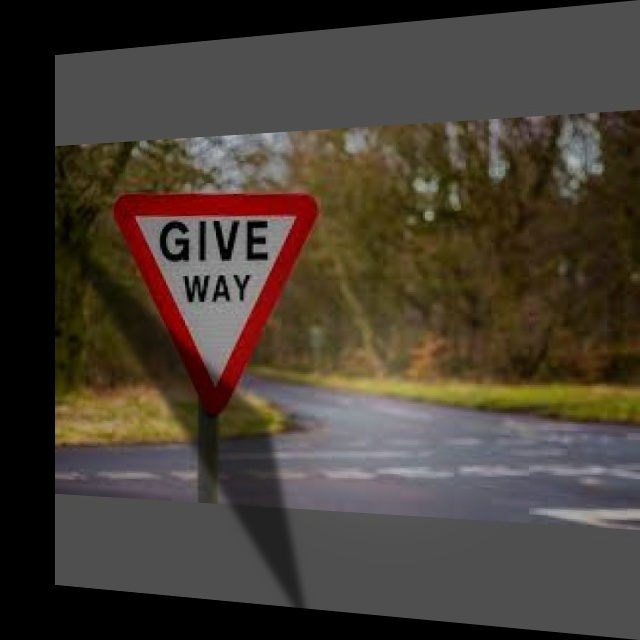Give_Way: (119, 191, 310, 407)
